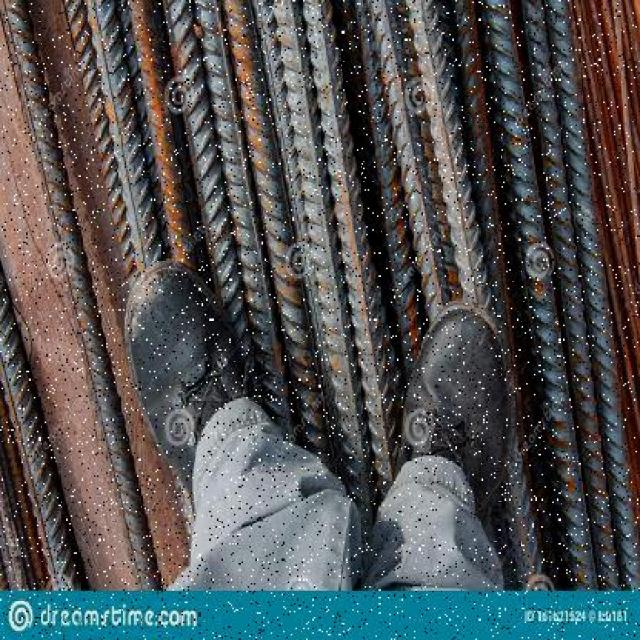shoes: (127, 271, 295, 529), (402, 302, 516, 507)
